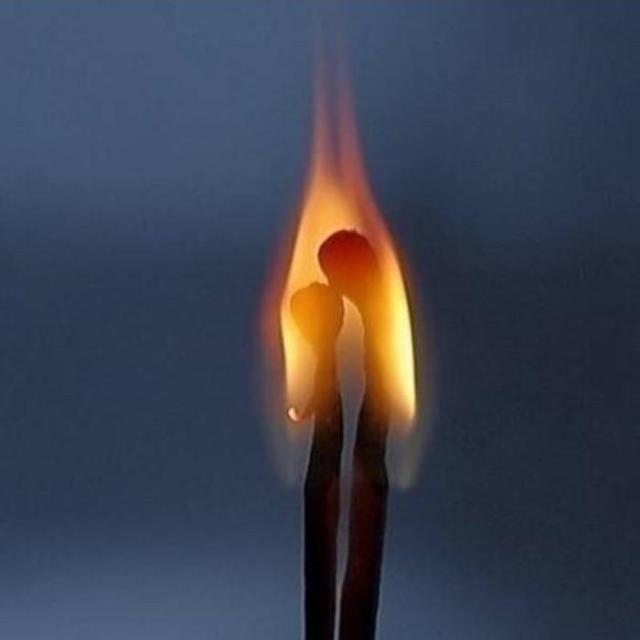Fire: (260, 54, 424, 484)
